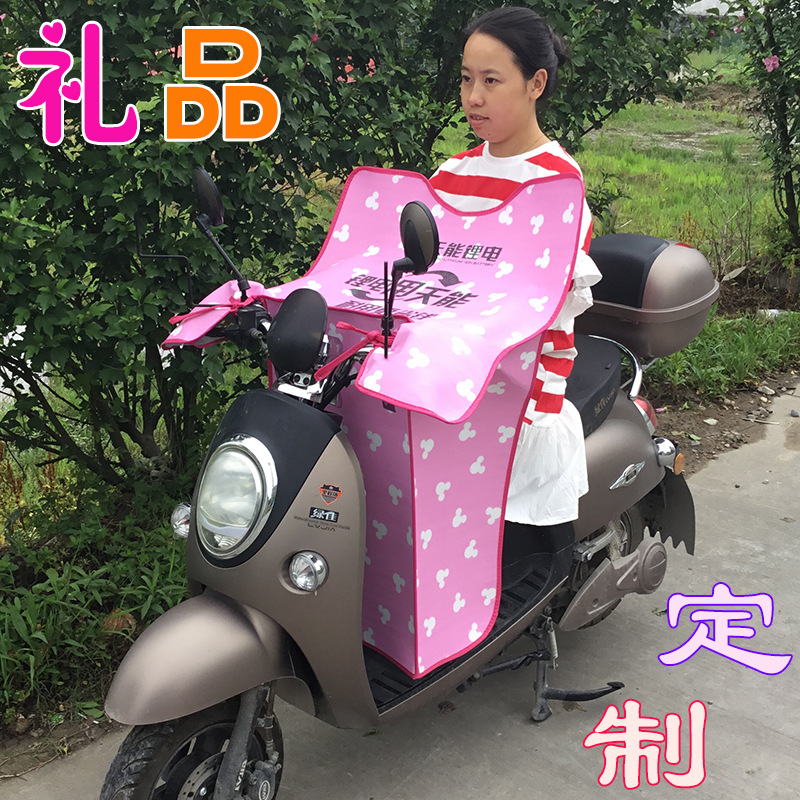电动车: (91, 168, 744, 800)
